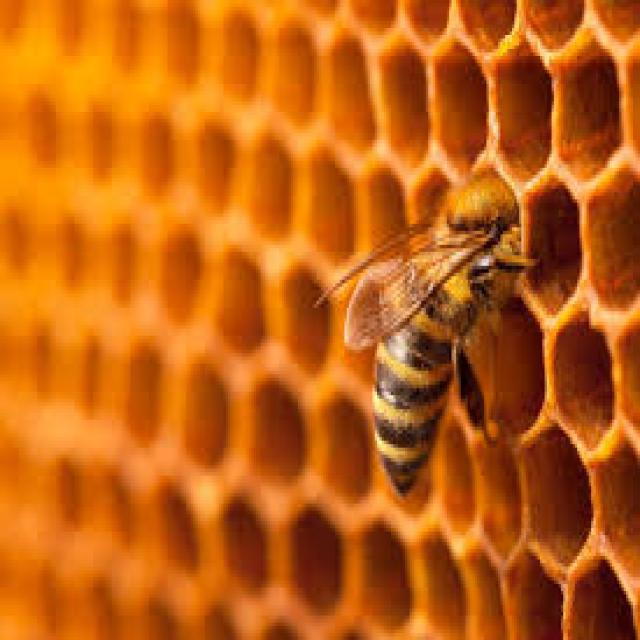Bees: (312, 206, 540, 499)
